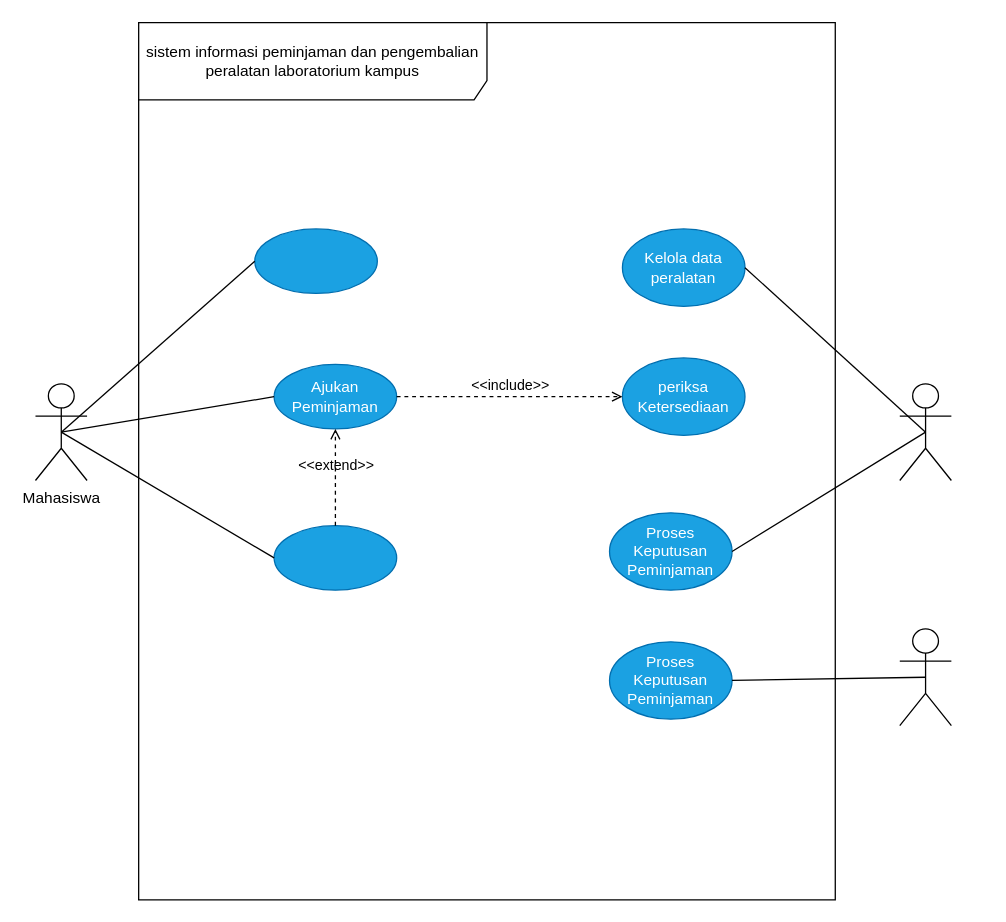
Some shapes in this 1006 by 922 pixel diagram are drawn without their labels. Here are the shapes that lost their labels. From the top down, the centre of each, then its label:
At (x=315, y=260): "Lihat ketersediaan peratalan".
At (x=924, y=431): "Kepala Laboran".
At (x=335, y=557): "Cetak Bukti Peminjaman".
At (x=924, y=677): "Petugas Laboran".
